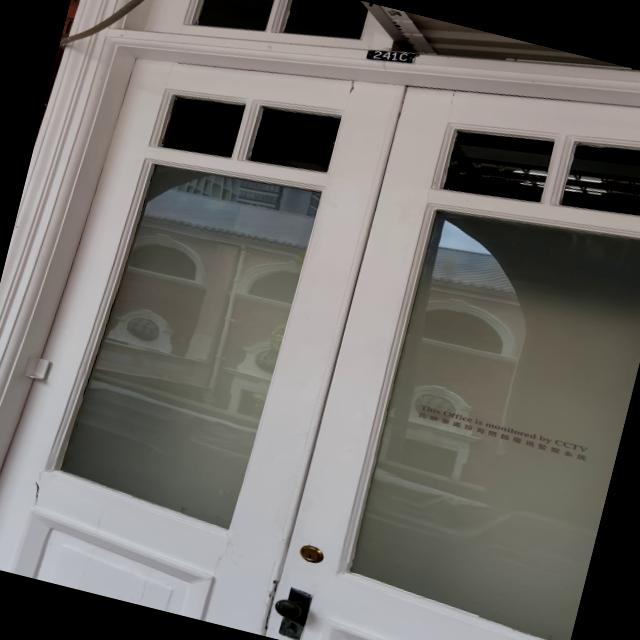room241c: (361, 41, 418, 72)
